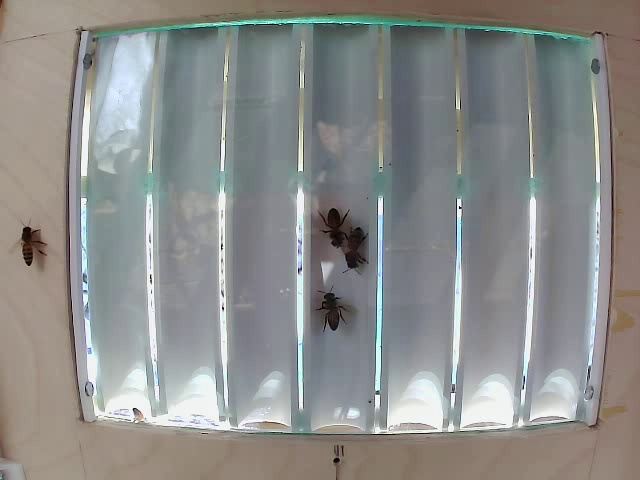bee: (306, 275, 360, 335), (318, 201, 355, 246), (346, 217, 374, 269)
